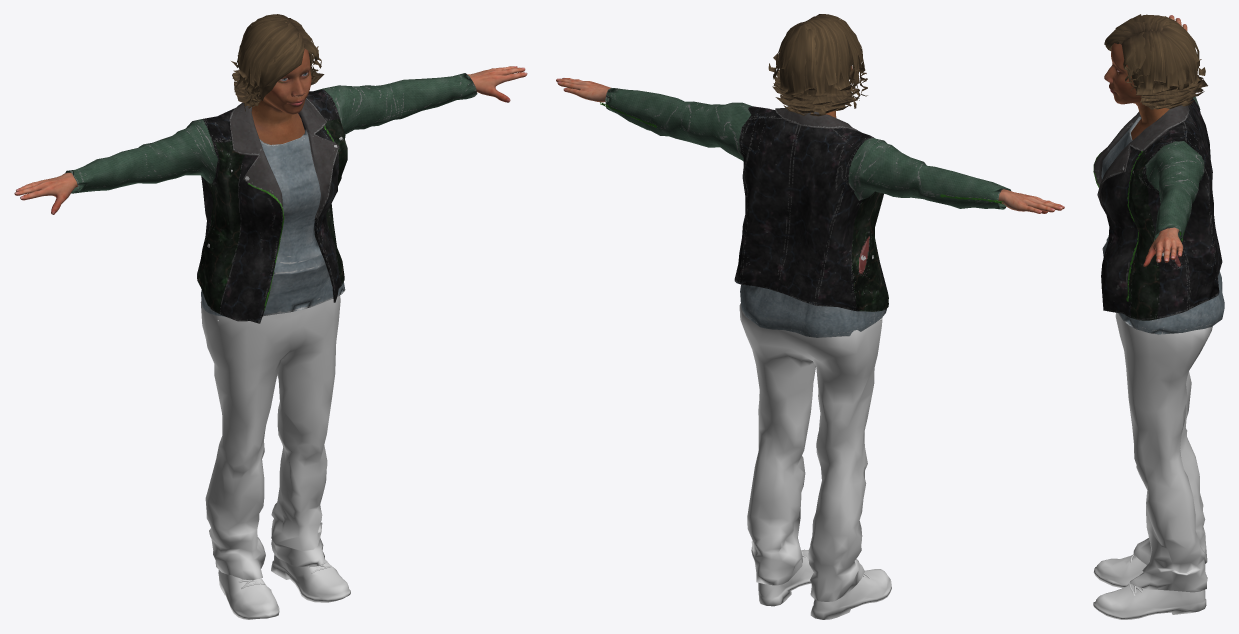
File: decimated-55_untitled.fbx
The picture shows the model from 3 angles, left to right: view 1: azimuth 30°, elevation 25°; view 2: azimuth 150°, elevation 25°; view 3: azimuth 270°, elevation 25°; orthographic projection.
Visible parts, largest first — view 1: Tops, Bottoms, Body, Hair, Shoes; view 2: Tops, Bottoms, Hair, Shoes, Body; view 3: Tops, Bottoms, Hair, Shoes, Body.
Part boxes in pixels (bbox=[...]): Tops: bbox=[65, 73, 477, 323]; Bottoms: bbox=[200, 295, 340, 579]; Body: bbox=[14, 48, 527, 214]; Hair: bbox=[231, 14, 324, 111]; Shoes: bbox=[218, 554, 350, 619]; Tops: bbox=[600, 87, 1010, 337]; Bottoms: bbox=[739, 303, 882, 601]; Hair: bbox=[768, 14, 867, 116]; Shoes: bbox=[758, 549, 891, 619]; Body: bbox=[556, 66, 1064, 213]; Tops: bbox=[1093, 96, 1224, 334]; Bottoms: bbox=[1115, 312, 1212, 592]; Hair: bbox=[1104, 14, 1207, 109]; Shoes: bbox=[1093, 554, 1206, 619]; Body: bbox=[1104, 15, 1187, 266].
Size of the model in its own units: 15900 by 17201 by 3557.
